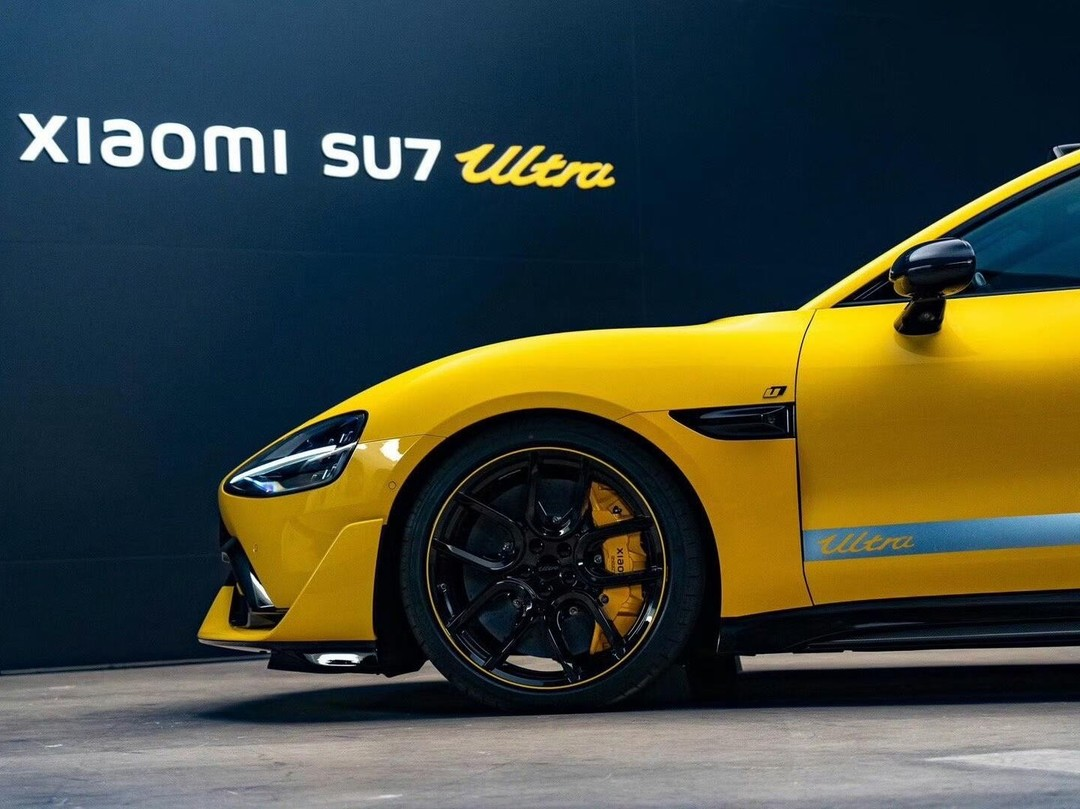su7: (202, 133, 1080, 710)
